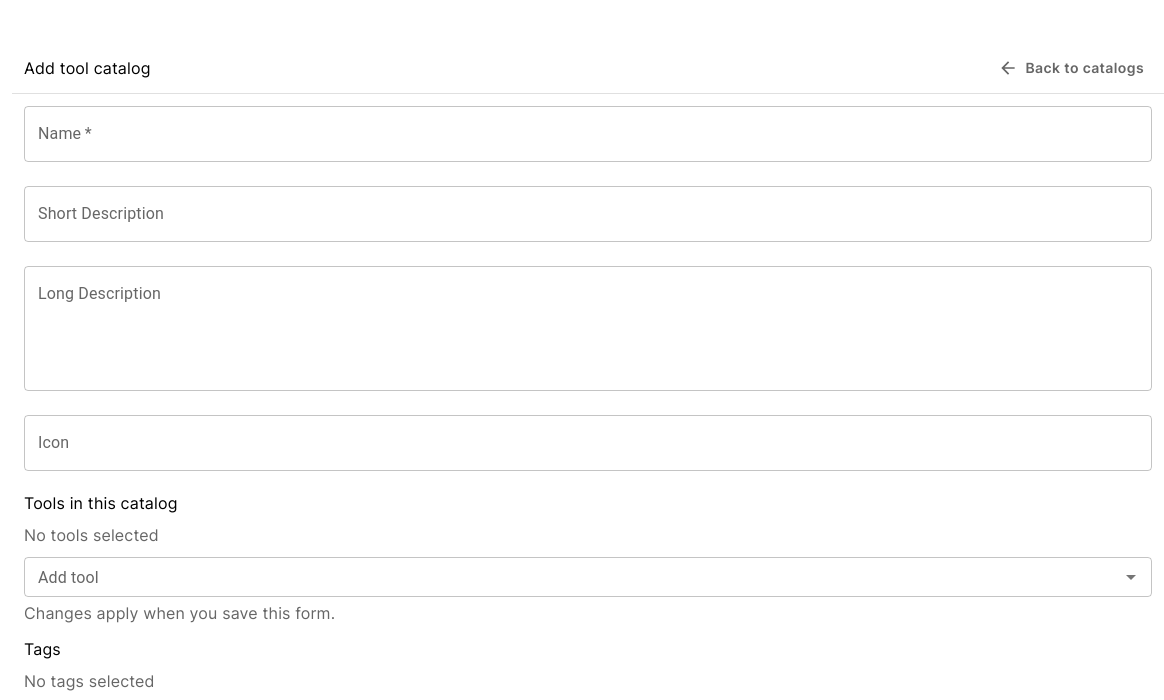
Test: ToolCatalogueForm unsaved changes › a successful save marks the form clean before redirecting
In the field labelled "Name *": point(588, 134) [24,106,1152,162], type "New"
(page scrolled)
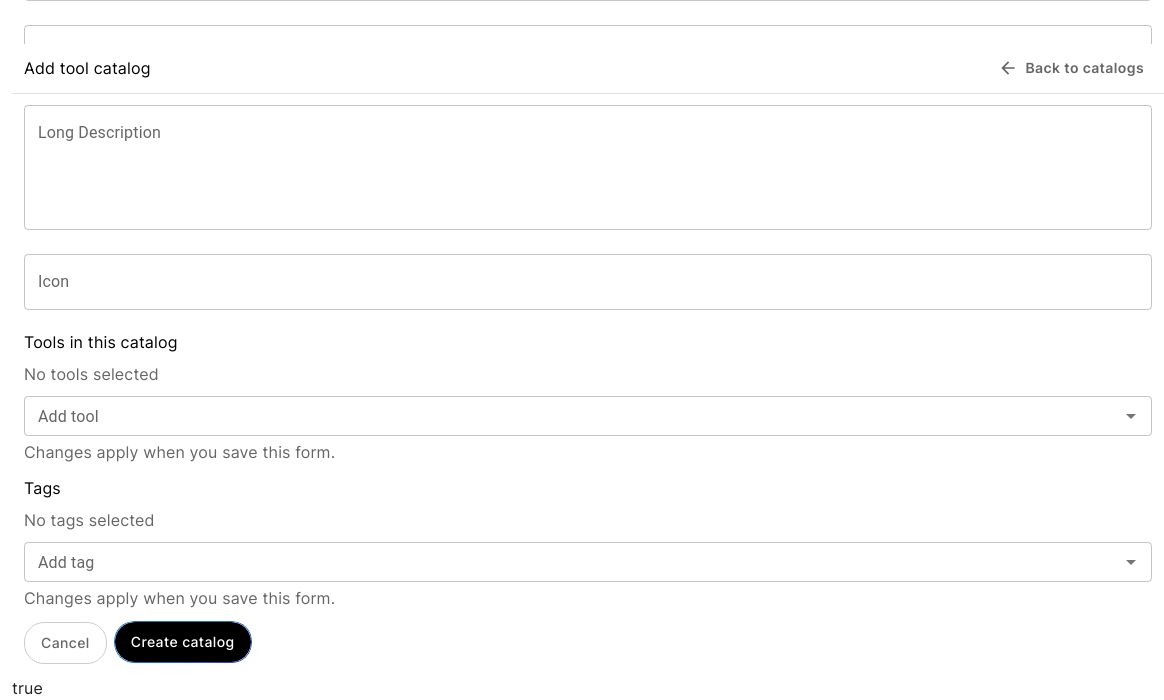
Result: the text with test id "registry-dirty" reads "true" at [12,678,43,698]
Click the button "Create catalog": point(183, 642) [115,622,251,662]
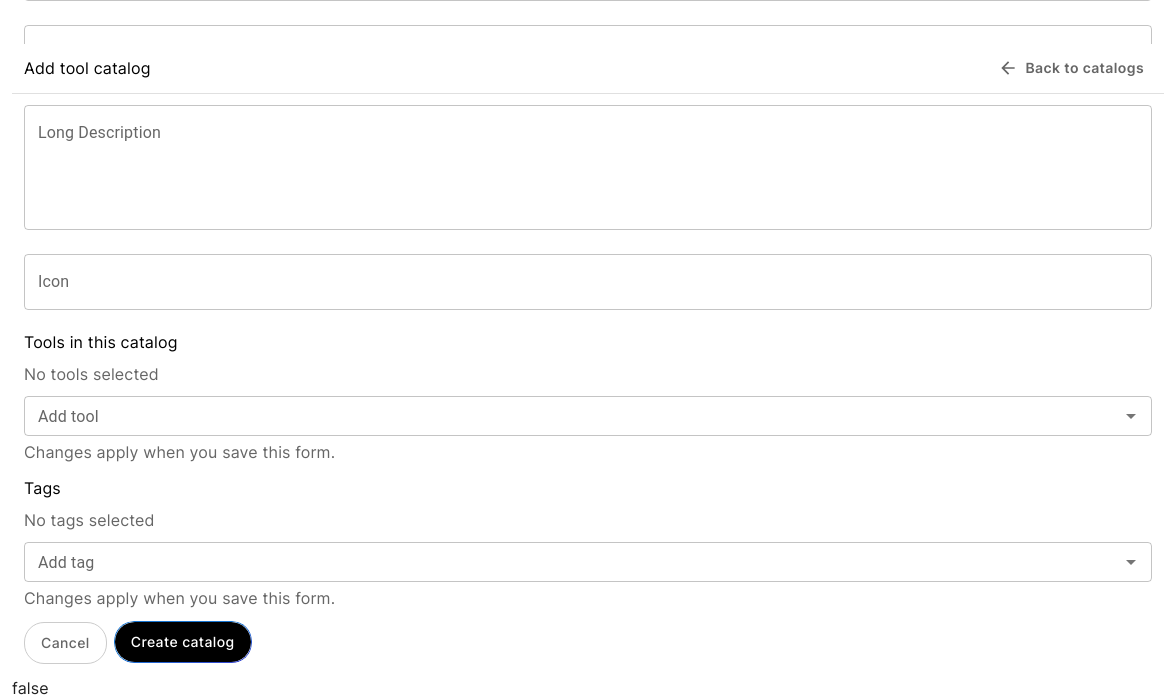
Result: the text with test id "registry-dirty" reads "false" at [12,678,49,698]
